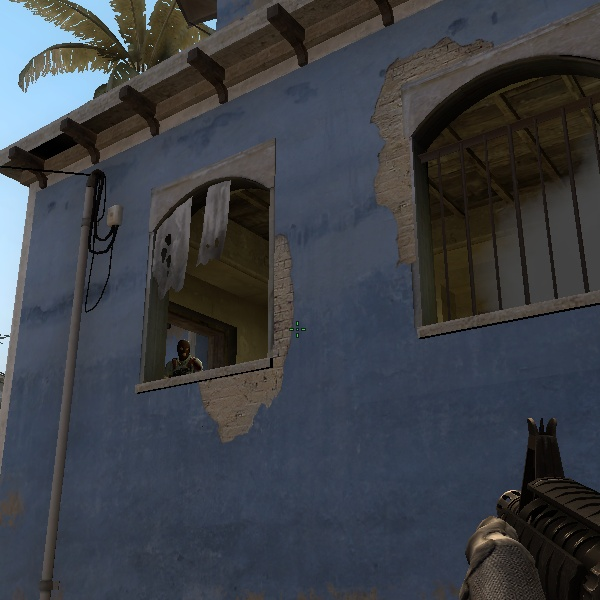t_body: (166, 338, 207, 371)
